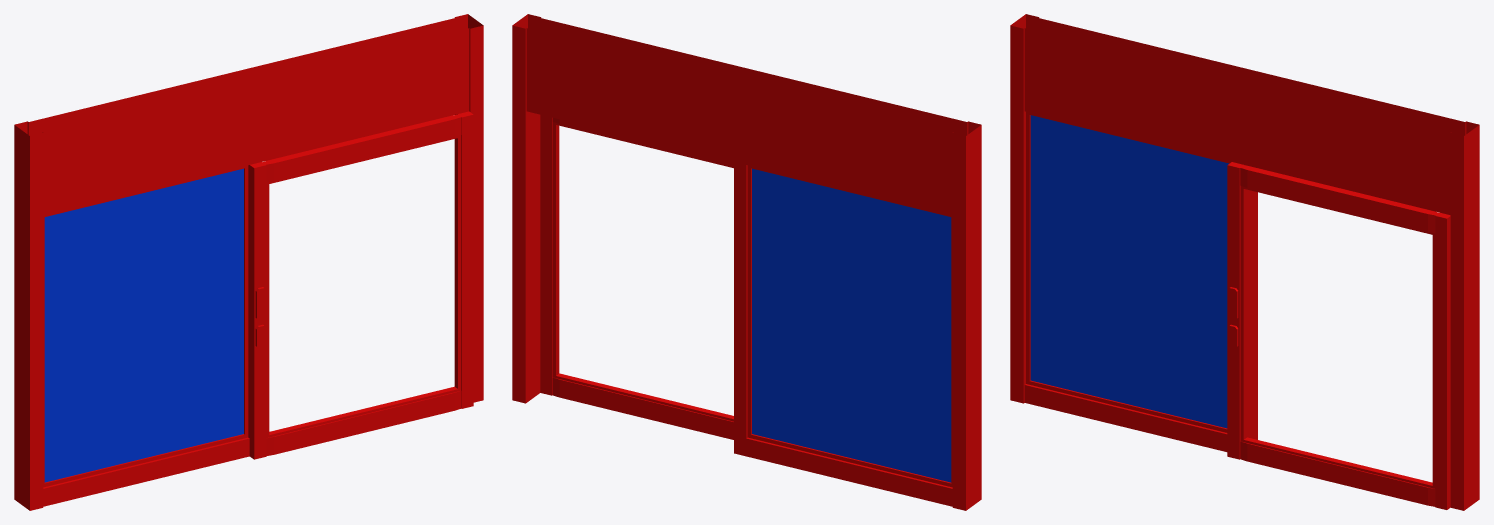
Rendered from door01_l.fbx.
The picture shows the model from 3 angles, left to right: view 1: azimuth 30°, elevation 25°; view 2: azimuth 150°, elevation 25°; view 3: azimuth 330°, elevation 25°; orthographic projection.
Parts seen in each view (by area): view 1: Plane.010; view 2: Plane.010; view 3: Plane.010.
Part boxes in pixels (box(x1,y1,x2,y2)): Plane.010: box(14, 14, 483, 510); Plane.010: box(512, 14, 981, 510); Plane.010: box(1010, 14, 1479, 510).
Bounding box in the file's own units: 570 × 450 × 44.94.
